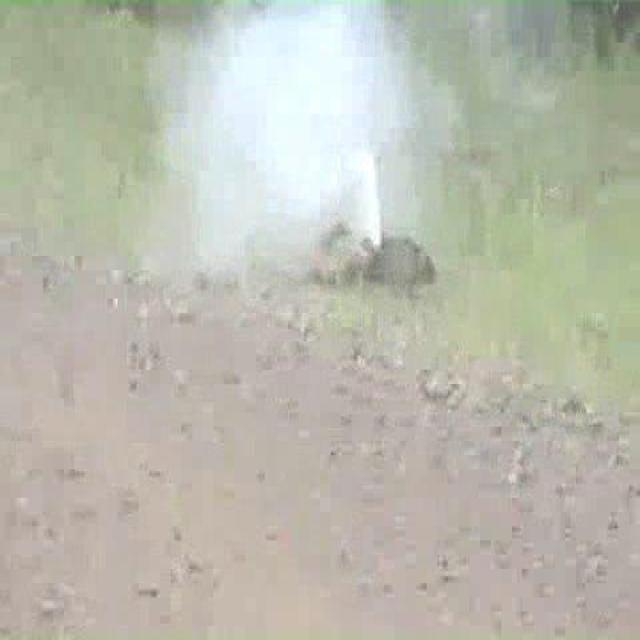Smoke: (168, 0, 424, 282)
